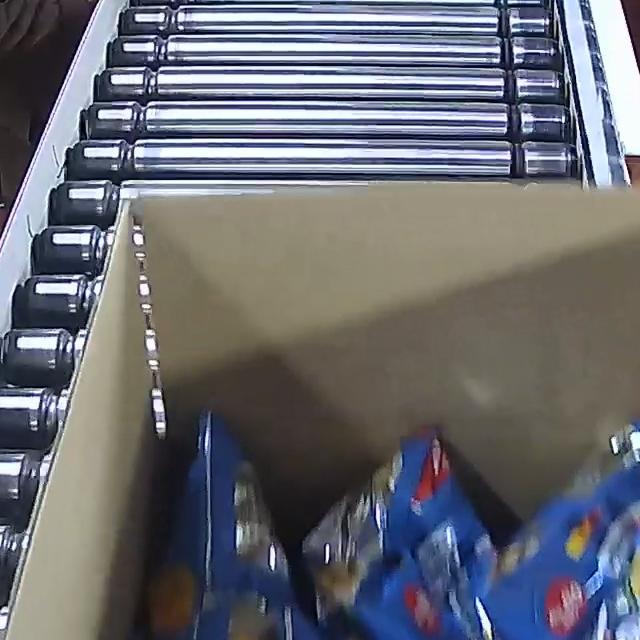paprika: (88, 394, 640, 640)
